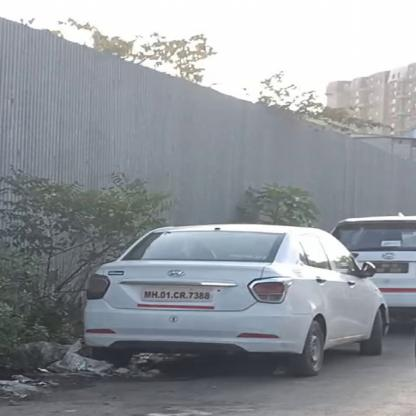license_plate: (138, 285, 213, 303)
